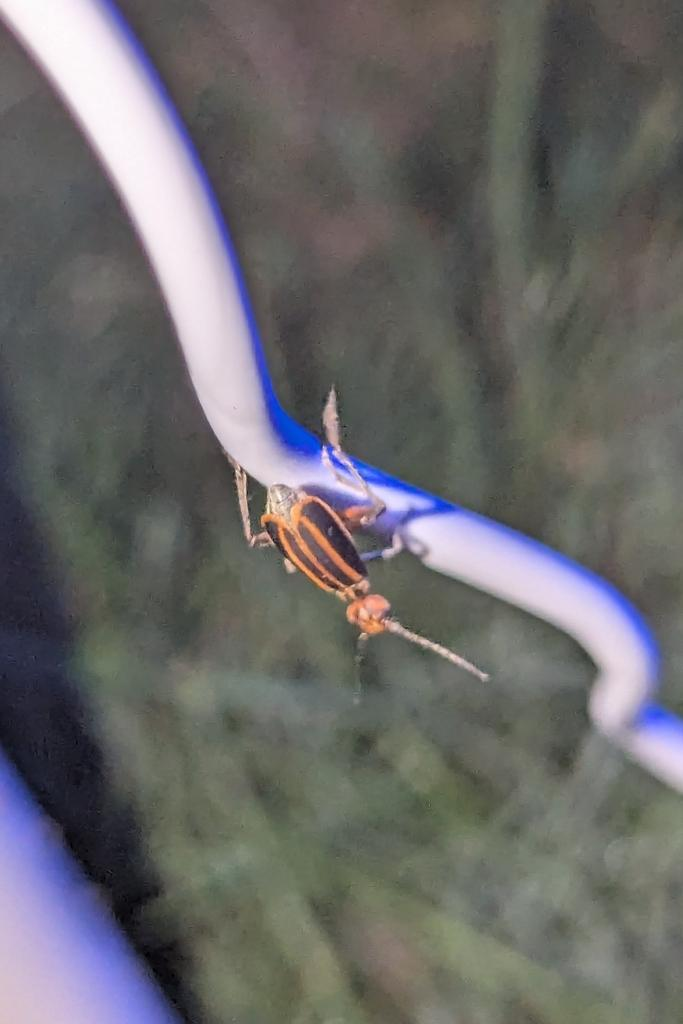blister_beetle: (157, 363, 521, 743)
